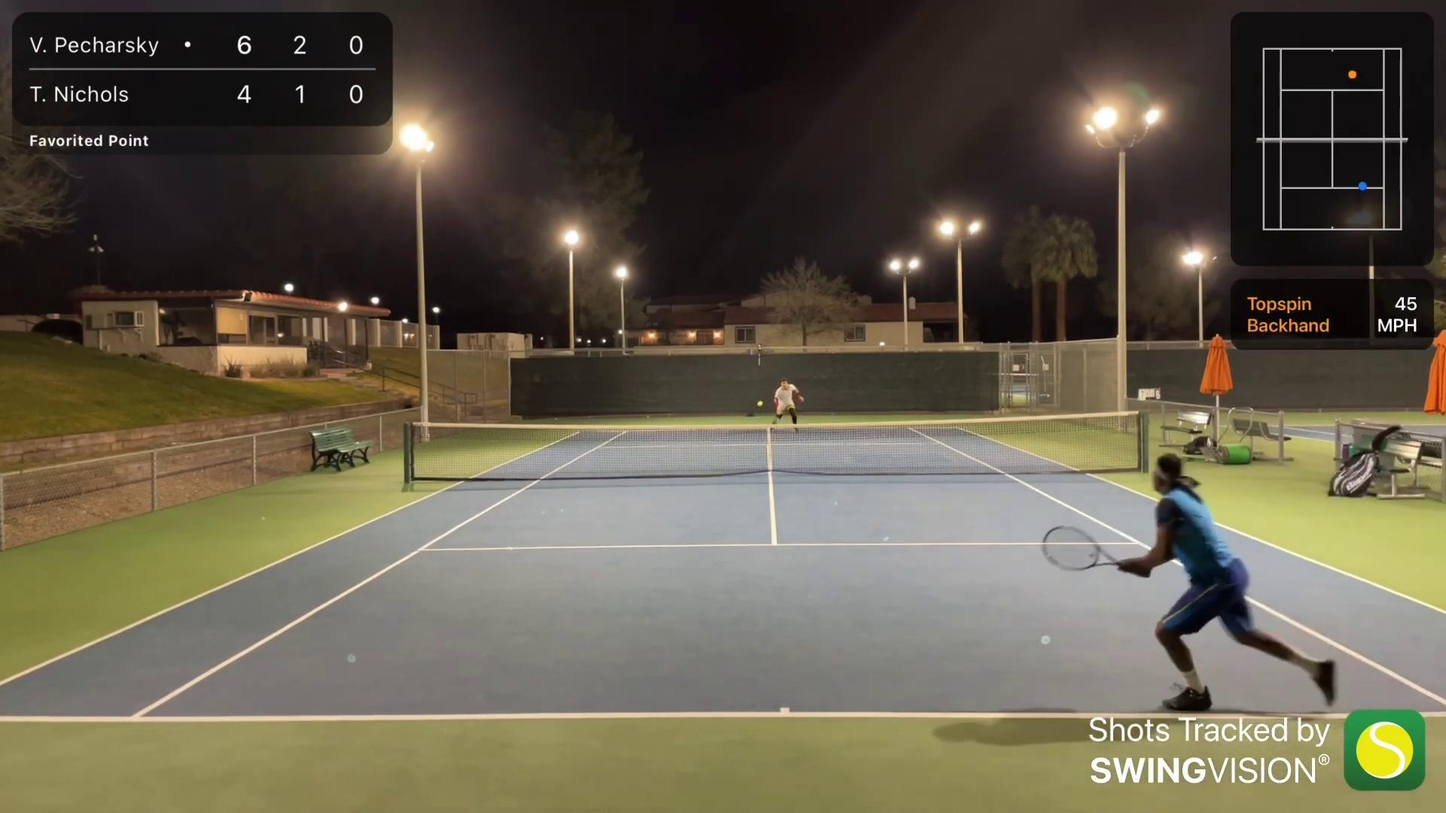ball: (757, 402, 760, 404)
